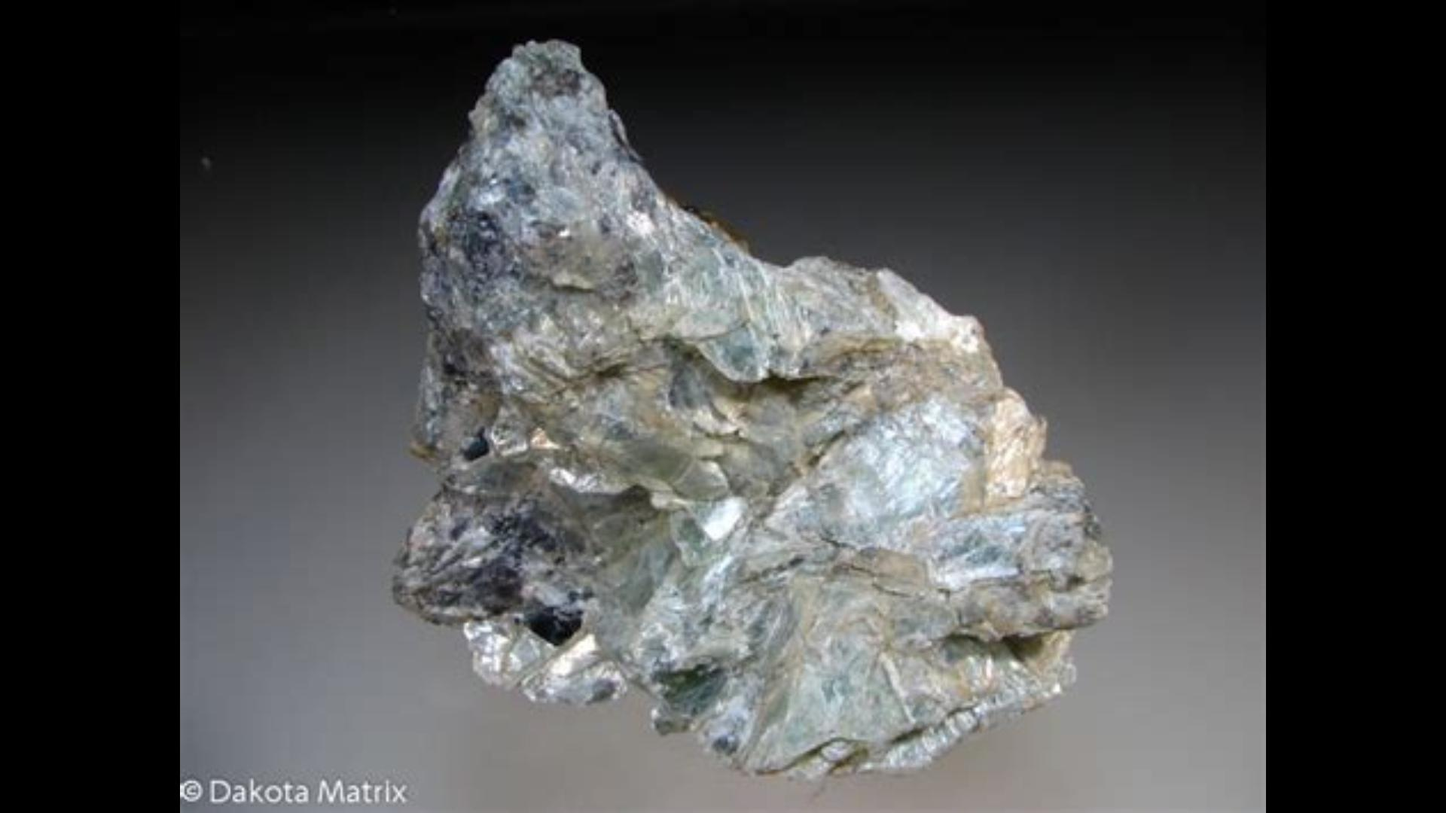rock: (398, 48, 1110, 767)
